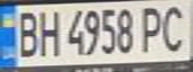4: (63, 6, 84, 56)
5: (100, 6, 121, 55)
8: (115, 4, 139, 54)
9: (81, 6, 103, 56)
B: (9, 7, 42, 57)
C: (157, 1, 193, 54)
H: (33, 6, 63, 57)
P: (136, 2, 169, 53)
